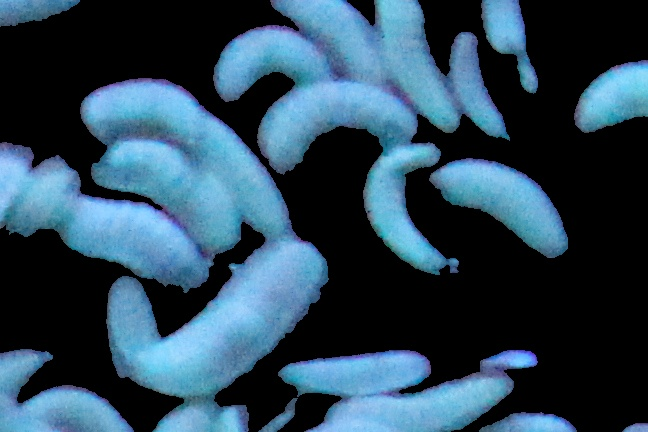larvae: (143, 242, 328, 394), (95, 133, 245, 249), (256, 79, 431, 176), (177, 108, 302, 235), (63, 190, 209, 291), (431, 159, 568, 258), (373, 1, 469, 132), (361, 143, 446, 277), (265, 1, 397, 85), (327, 374, 523, 429), (208, 22, 337, 104), (102, 271, 170, 389), (276, 350, 436, 400), (86, 76, 202, 142), (442, 31, 509, 145), (571, 50, 648, 136), (16, 385, 137, 432)
